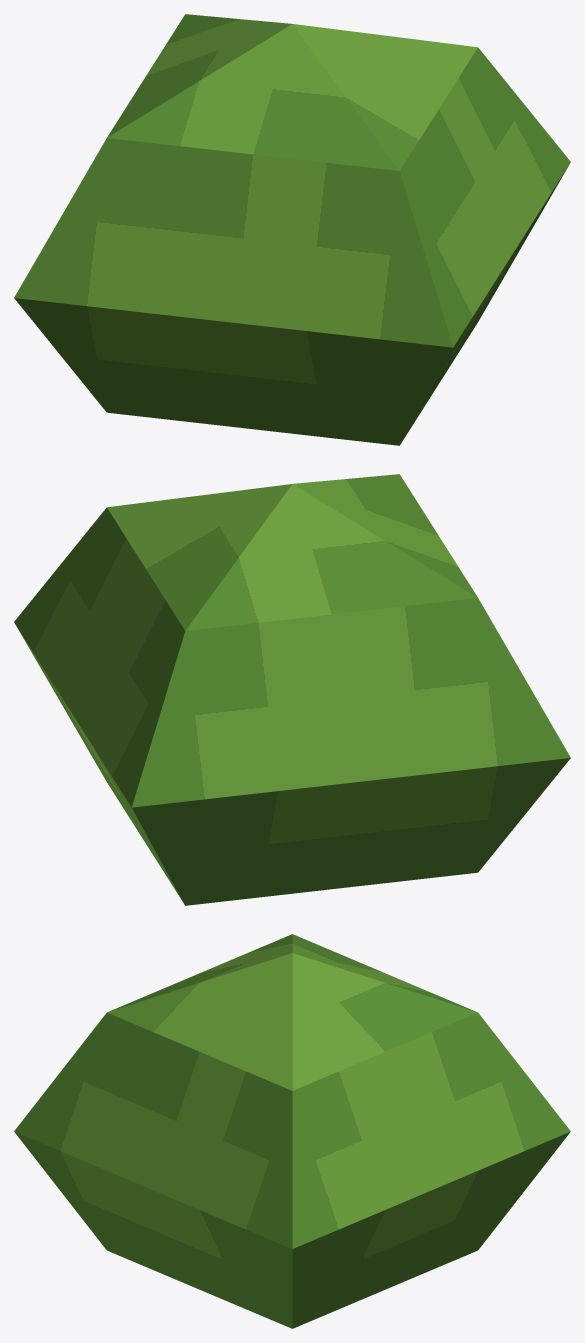
Rendered from Bush_Sml.fbx.
The picture shows the model from 3 angles, top to bottom: view 1: azimuth 30°, elevation 25°; view 2: azimuth 150°, elevation 25°; view 3: azimuth 270°, elevation 25°; orthographic projection. The views are drawn at different scales.
Parts seen in each view (by area): view 1: pSphere6; view 2: pSphere6; view 3: pSphere6.
Boxes of the visible parts, x1=… form: pSphere6: x1=14, y1=14, x2=570, y2=445; pSphere6: x1=14, y1=474, x2=570, y2=905; pSphere6: x1=14, y1=934, x2=570, y2=1328.
Bounding box in the file's own units: 2.12 × 1.25 × 2.12.
1 material, 1 textured.
